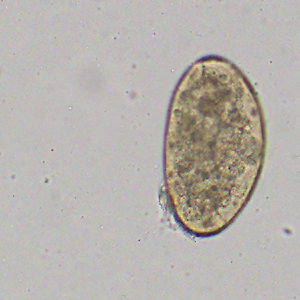Fasciola_hepatica_egg: (162, 52, 269, 238)
